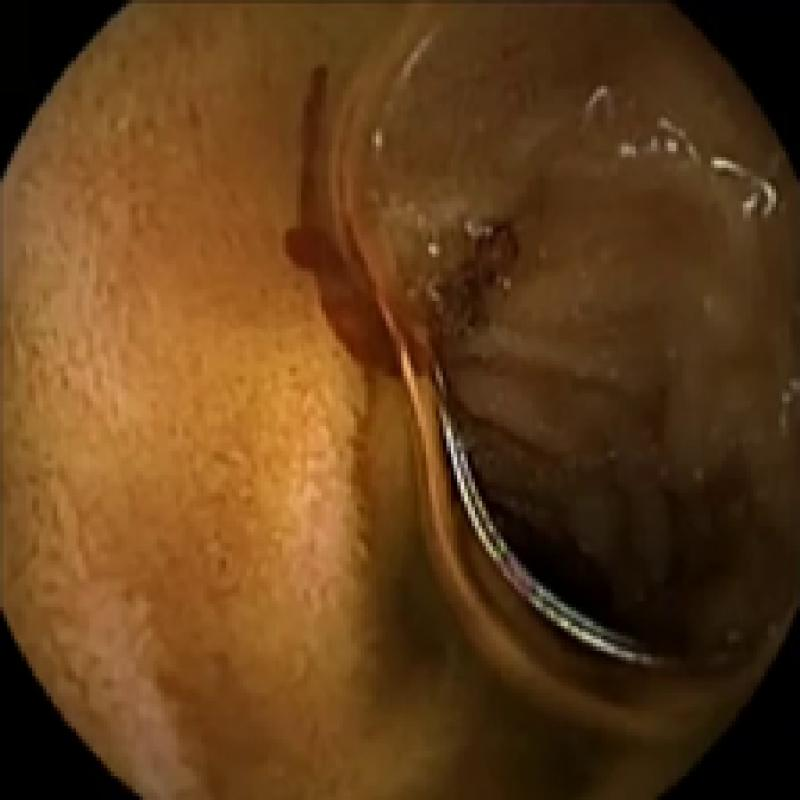bleeding: (279, 53, 525, 385)
